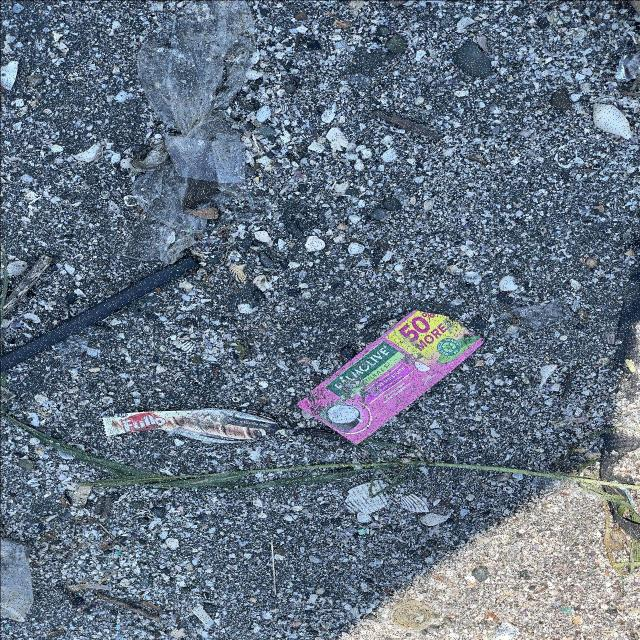plastic_waste: (294, 309, 482, 443), (102, 410, 282, 445), (1, 538, 32, 622), (391, 600, 434, 632)
